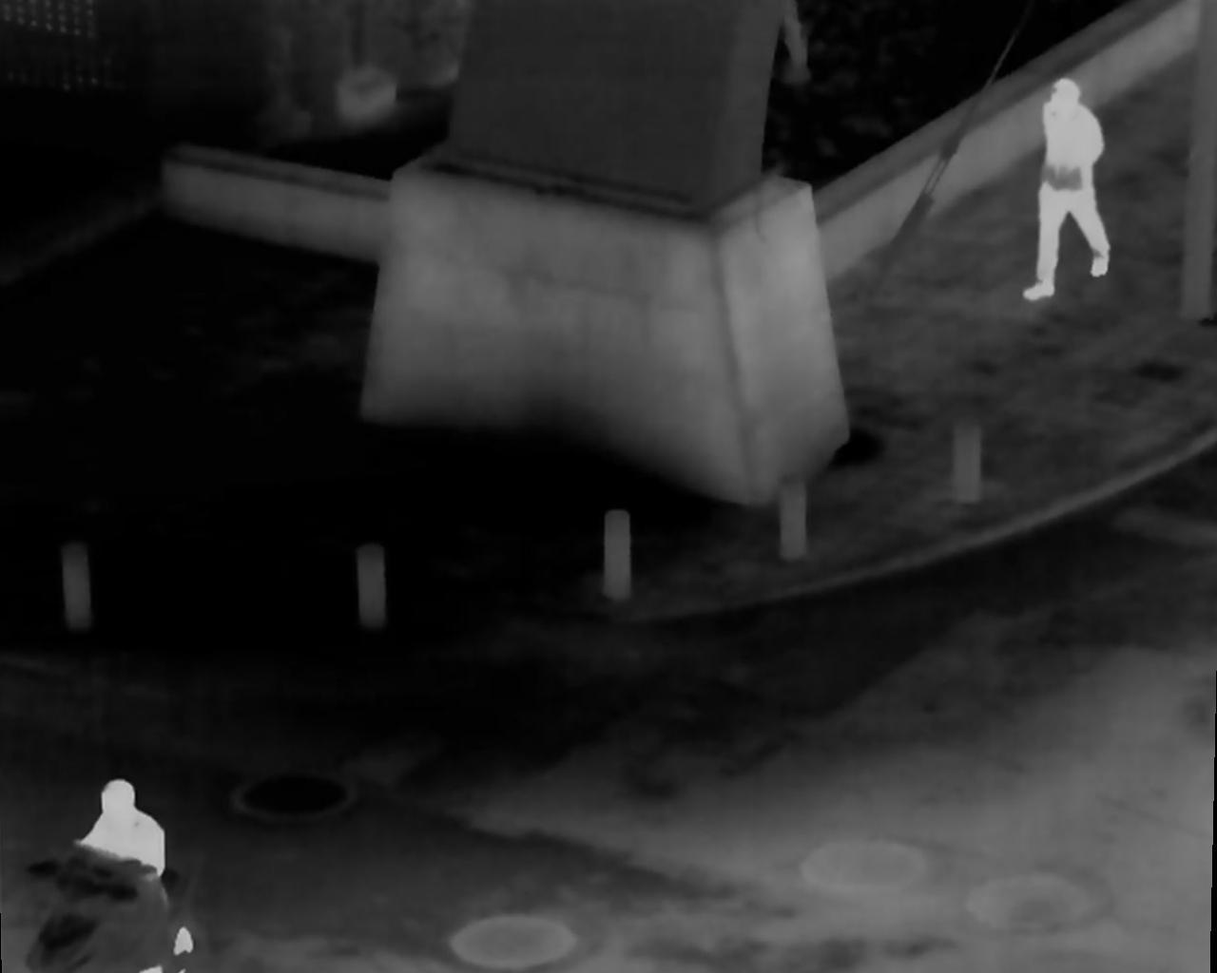person: (66, 778, 198, 954), (1019, 84, 1108, 301)
